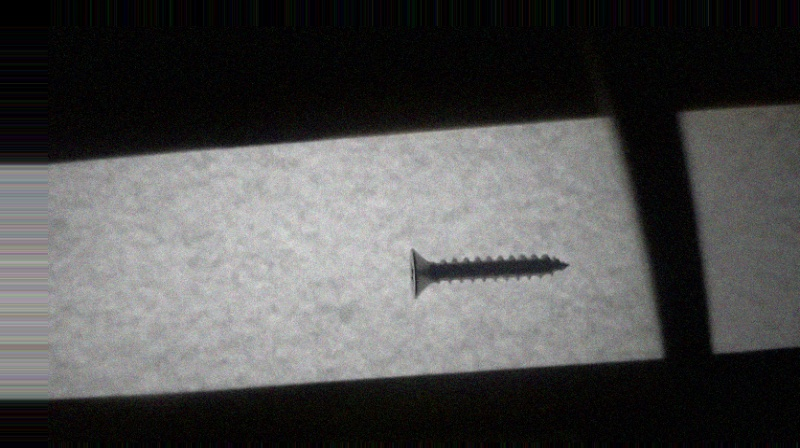S001: (405, 249, 573, 299)
